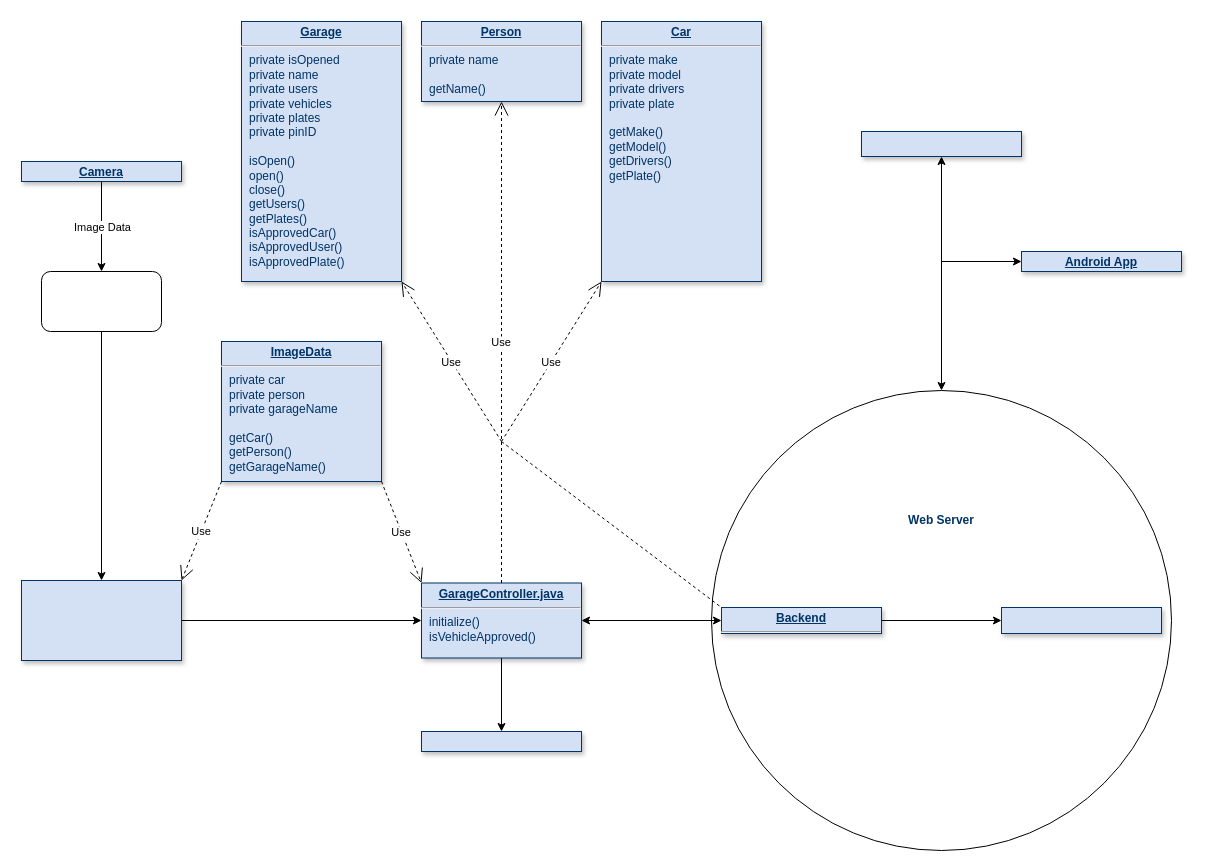
This 1205x868 diagram has some shape labels left out. Each missing label, with the centre of its shape:
"Frontend" belongs at [1082,621].
"Garage" belongs at [502,742].
"ImageManager.py Image returns type ImageData" belongs at [102,622].
"IPhone App initialize() isVehicleApproved()" belongs at [942,145].
"PyTorch" belongs at [101,301].
